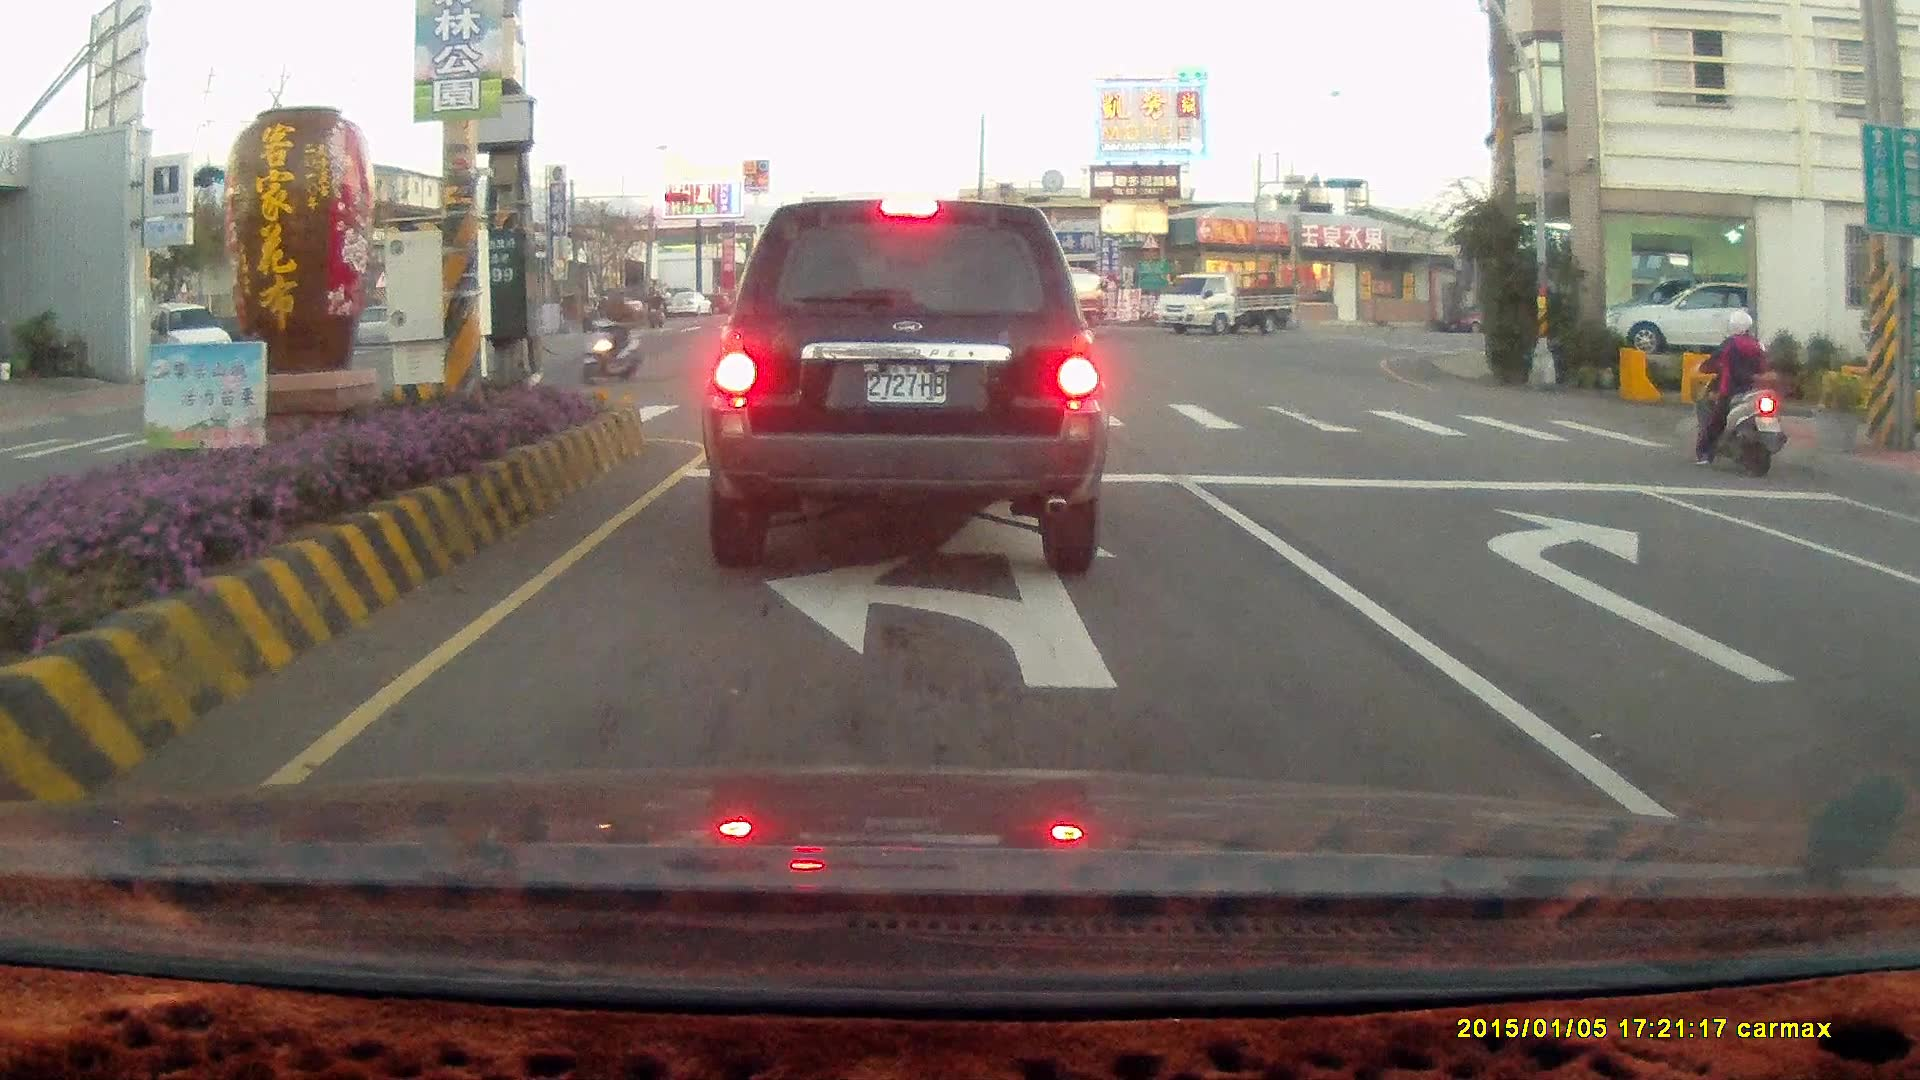rider: (1696, 308, 1791, 476), (575, 284, 644, 382), (577, 292, 602, 332), (648, 289, 669, 326)
vehicle: (700, 197, 1110, 575), (1595, 275, 1797, 355), (967, 264, 1106, 346), (966, 264, 1105, 343), (1610, 279, 1748, 352), (1158, 274, 1301, 340), (120, 300, 234, 382), (1896, 493, 1920, 836), (1883, 528, 1920, 690)
